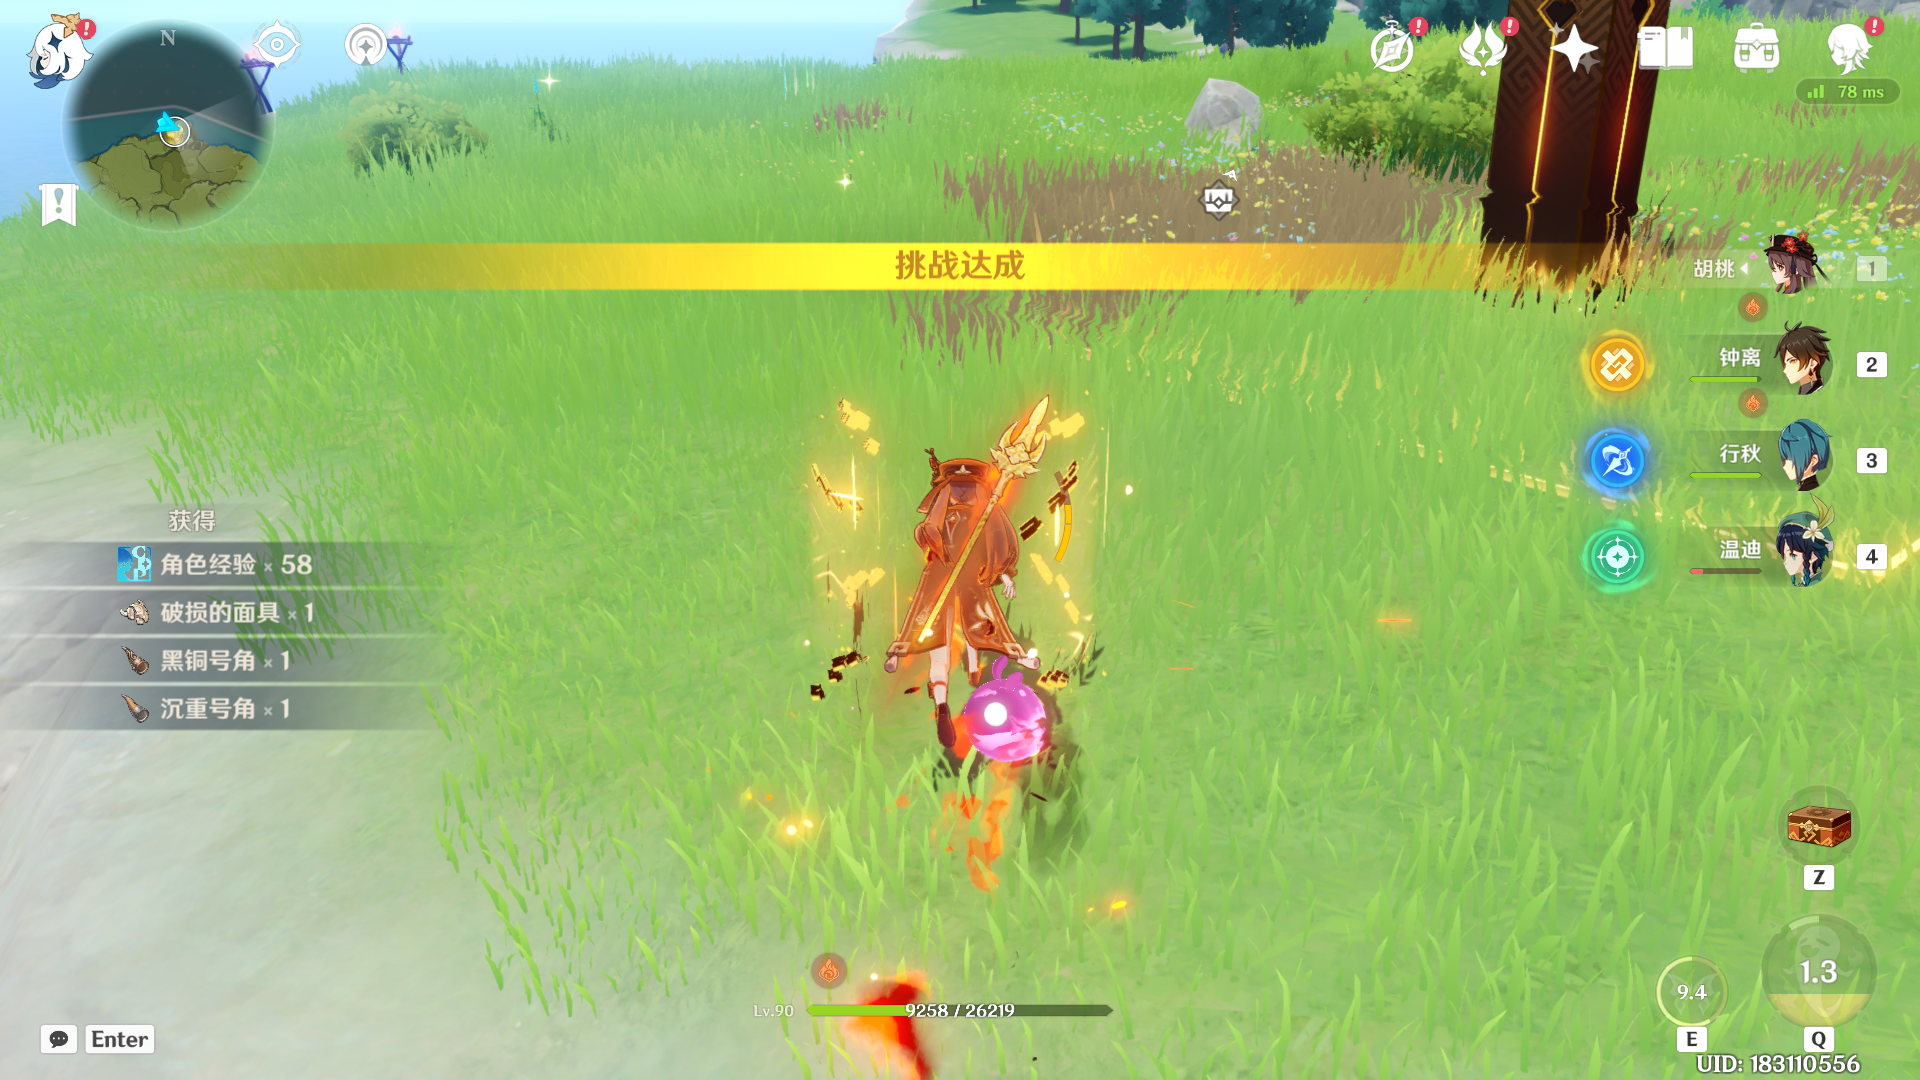character: (812, 398, 1159, 832)
